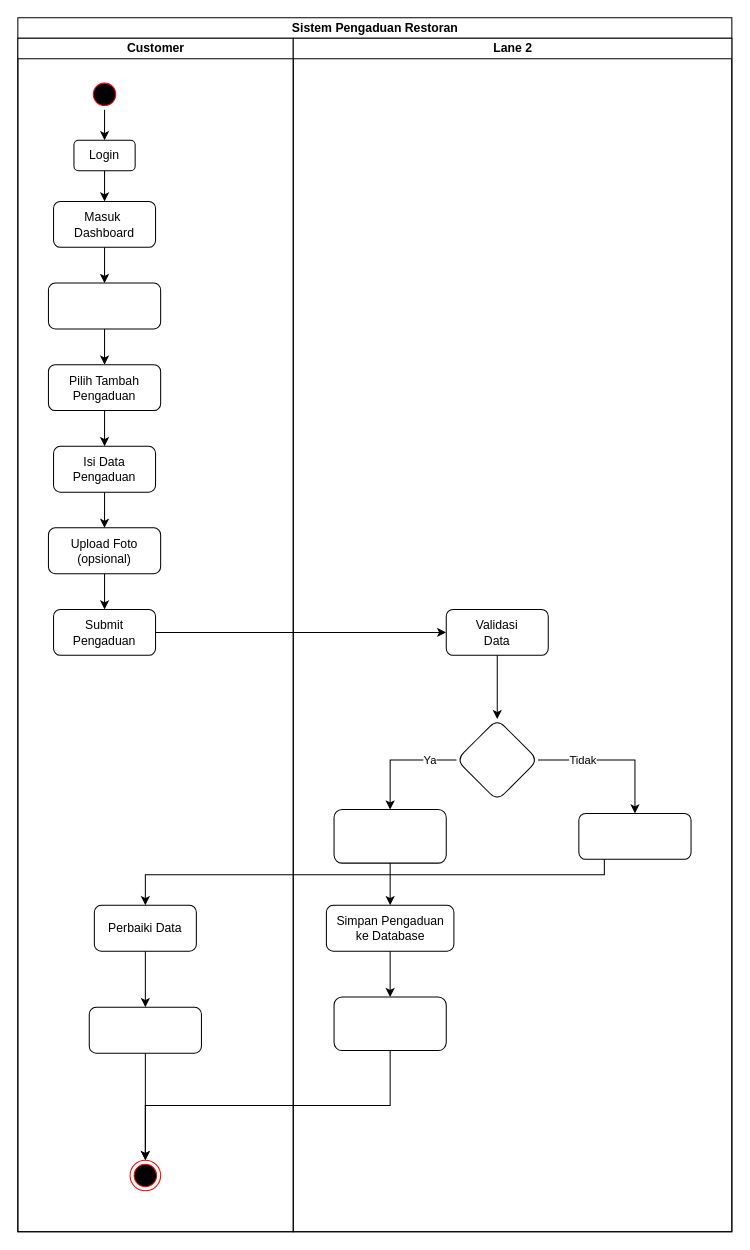
The diagram is 750 pixels wide and 1250 high, and some of its shapes have lost their labels. The shapes that lost their labels are listed below. From the top down, each one's box as (x1, y1, x2, y2) in pixels, then its label:
(47, 282, 161, 329): Pilih Menu Pengaduan
(455, 718, 538, 801): Data Valid?
(333, 809, 446, 863): Generate Nomor Pengaduan
(578, 812, 691, 859): Tampilkan Pesan Error
(88, 1006, 201, 1053): Submit Kembali
(333, 996, 446, 1051): Tampilkan Nomor Pengaduan
